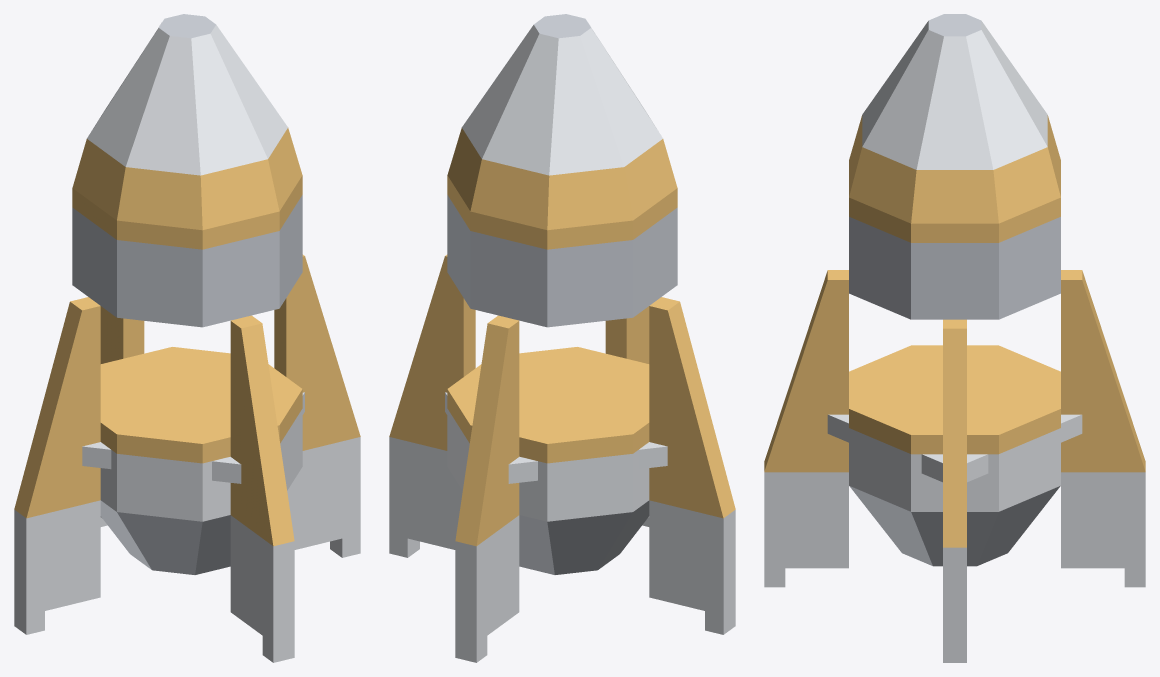
Rendered from rocket.glb.
3 views of the same model, side by side, from view 1: azimuth 30°, elevation 25°; view 2: azimuth 150°, elevation 25°; view 3: azimuth 270°, elevation 25° (orthographic).
Visible parts, largest first — view 1: rocket; view 2: rocket; view 3: rocket.
Part boxes in pixels (<box>): rocket: <box>14,14,360,662</box>; rocket: <box>389,14,735,662</box>; rocket: <box>764,14,1145,662</box>.
Bounding box in the file's own units: 10.8 × 17.4 × 10.8.
